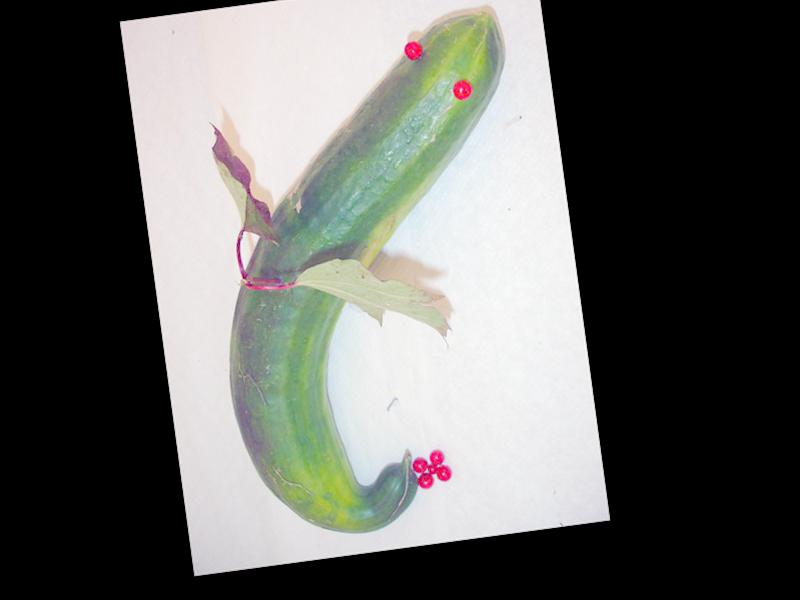Cucumber: (185, 9, 564, 547)
